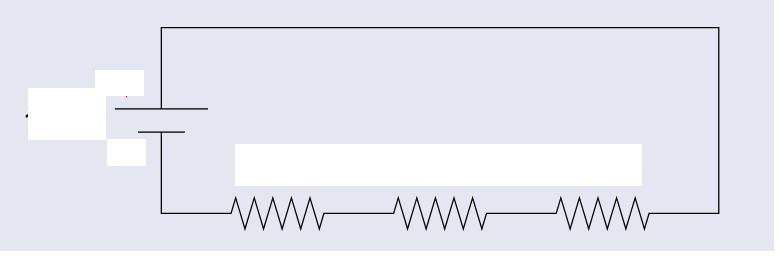resistor: (376, 174, 501, 251), (531, 190, 680, 240), (211, 180, 334, 240)
